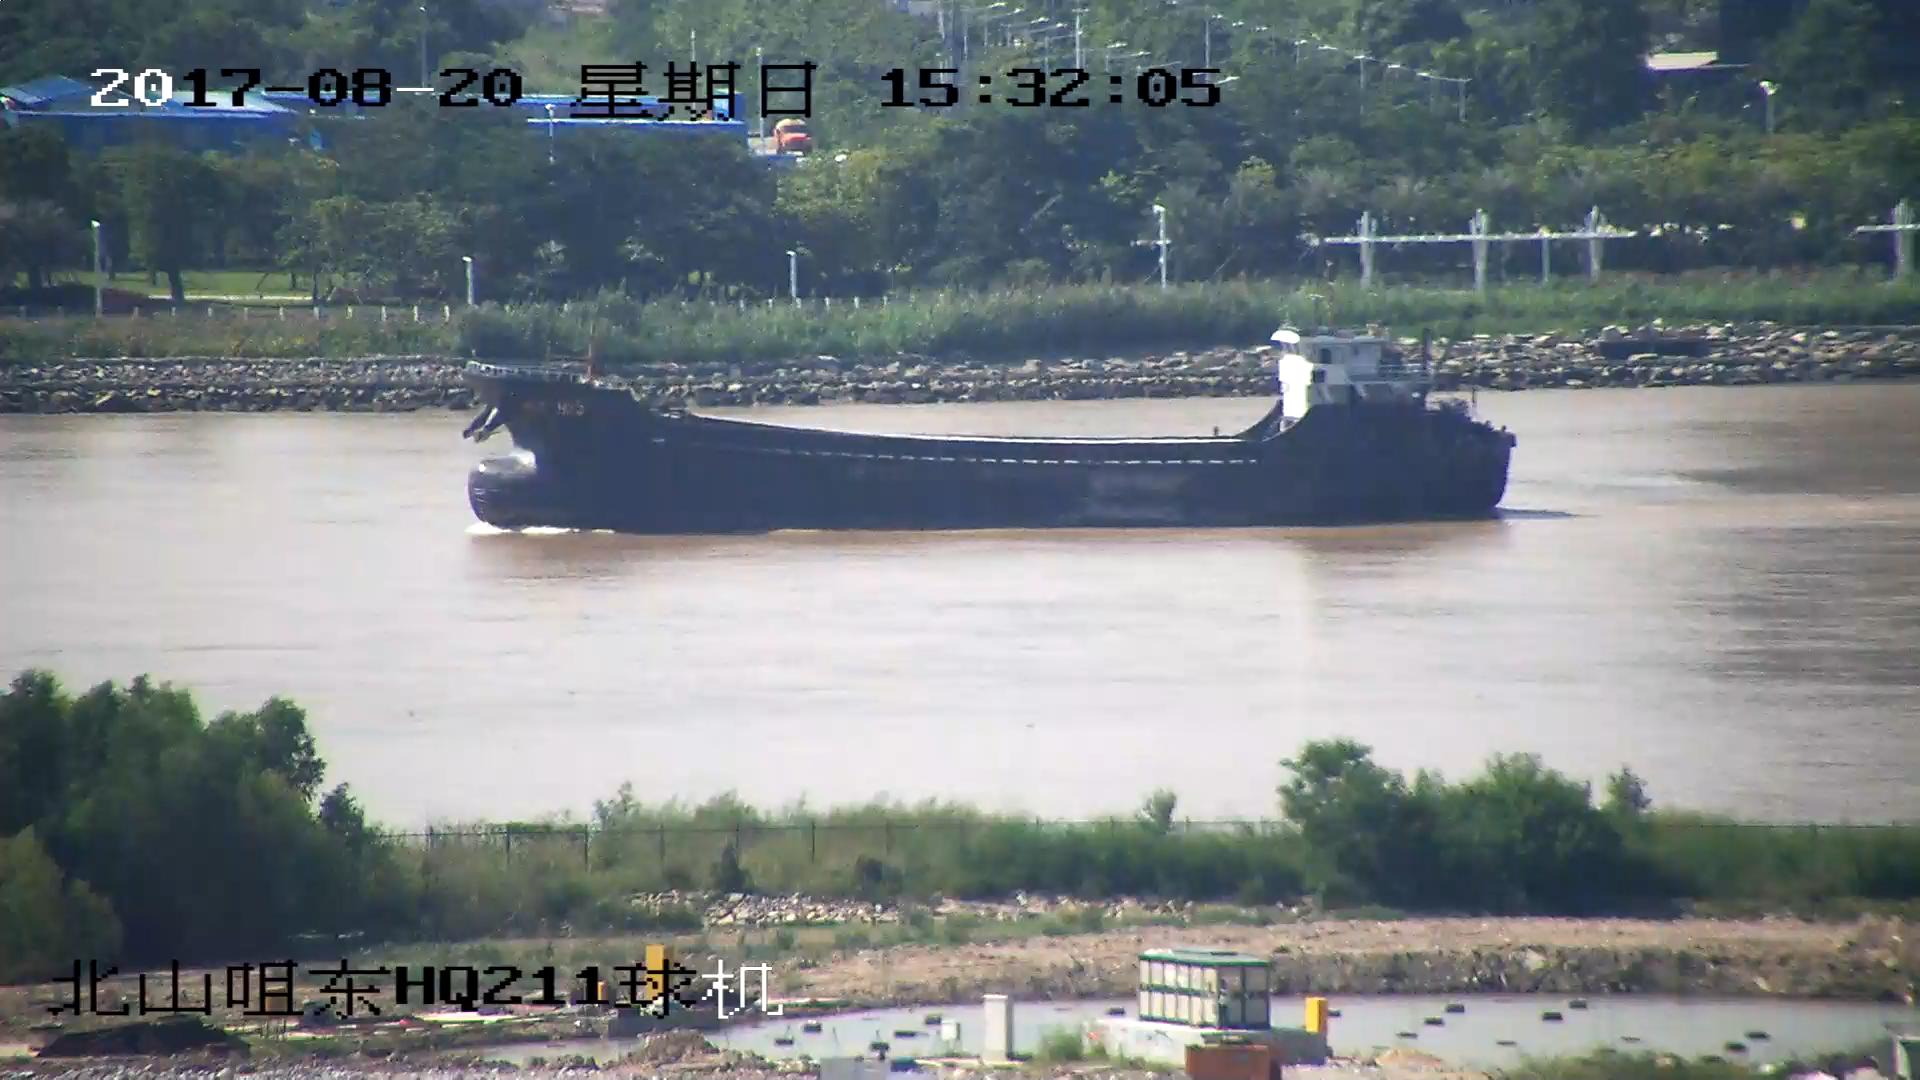general cargo ship: (463, 314, 1507, 530)
